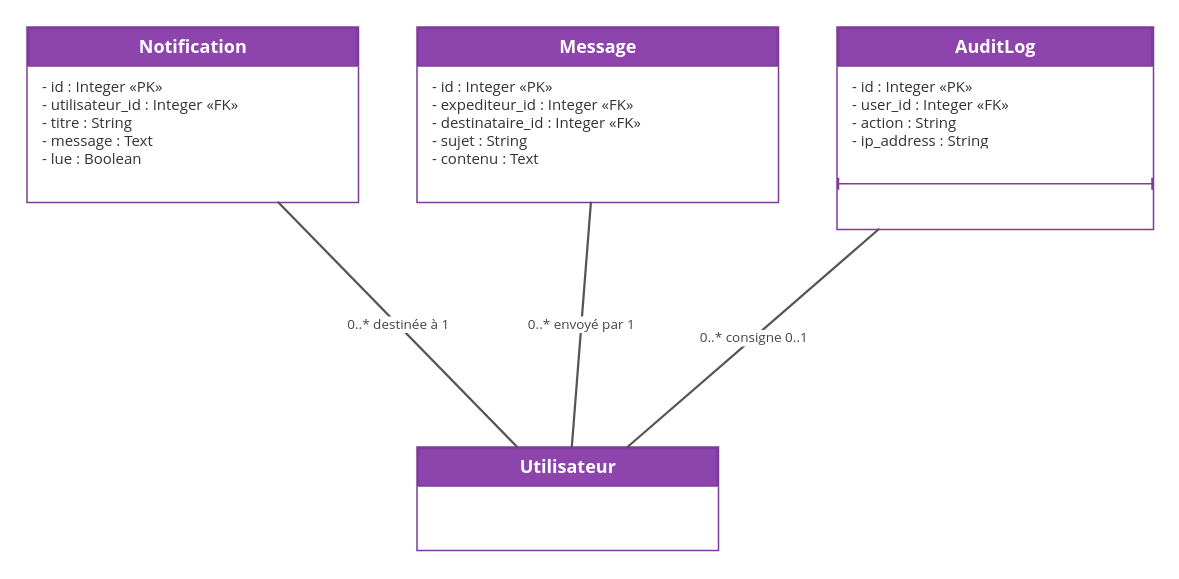
This 1179x579 diagram has some shape labels left out. The shapes that lost their labels are listed below. From the top down, each one's centre as x and y in pixels, then its label:
At point 994,208: "+ log() : AuditLog".
At point 567,517: "- id : Integer «PK» - nom : String".
